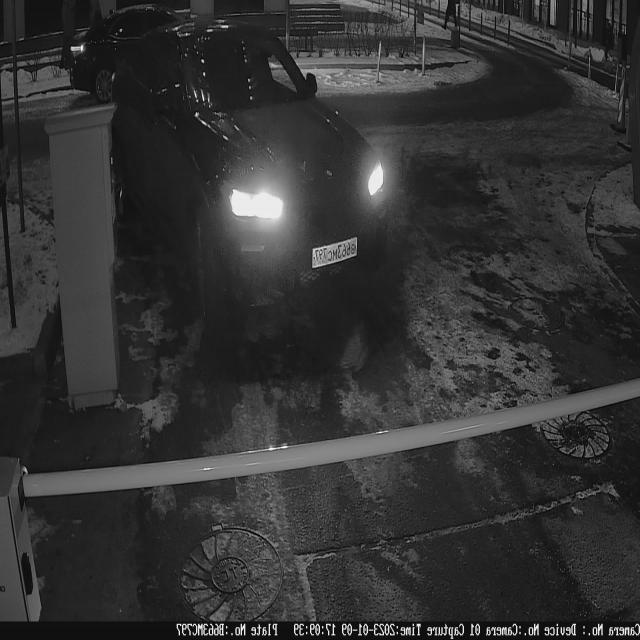car-plate-numbers: (309, 232, 362, 273)
